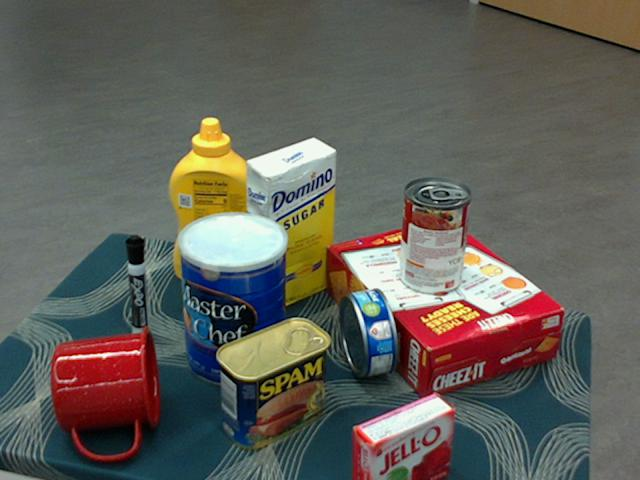cracker_box: (324, 219, 562, 395)
gelatin_box: (349, 393, 452, 479)
large_marker: (125, 234, 148, 342)
master_chef_can: (179, 213, 288, 388)
mug: (52, 326, 160, 460)
mustard_bottle: (168, 118, 258, 286)
potted_meat_can: (216, 318, 330, 449)
sugar_box: (246, 139, 336, 314)
tomato_soup_can: (398, 179, 470, 296)
tuna_fish_can: (340, 287, 398, 376)
